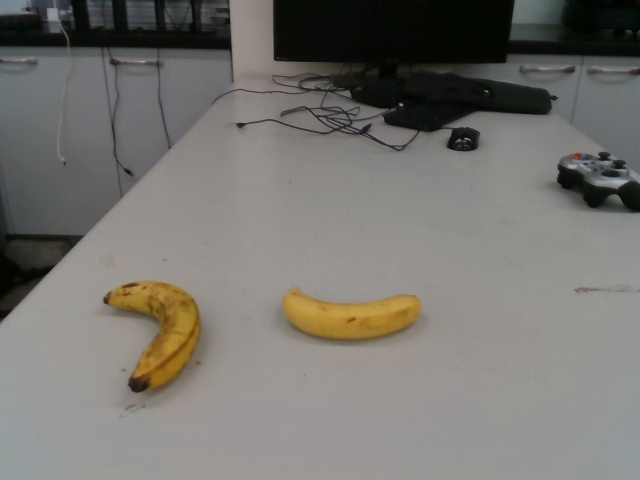banana: (104, 280, 204, 392), (277, 283, 421, 343)
